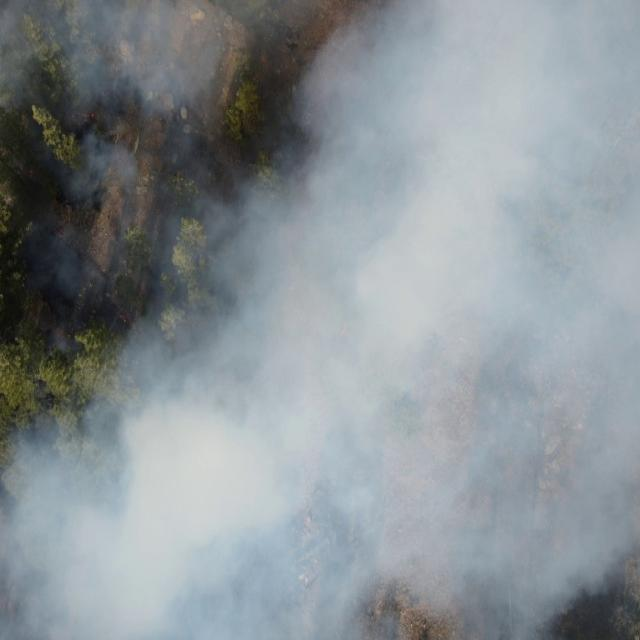fire: (73, 110, 96, 122), (56, 326, 70, 343), (118, 312, 131, 328), (54, 226, 68, 240), (27, 166, 38, 182)
smoke: (274, 0, 640, 640), (98, 0, 274, 409), (9, 407, 272, 640), (2, 0, 96, 349)
